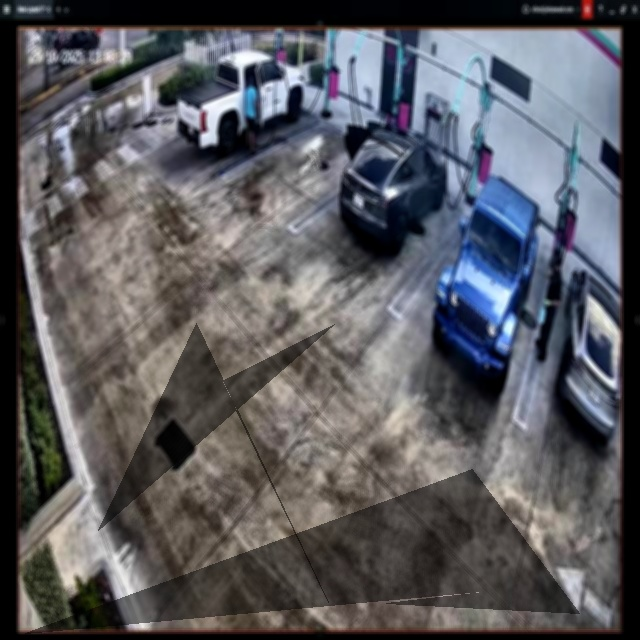Car: (435, 175, 536, 393), (341, 119, 447, 251), (175, 52, 304, 149)
